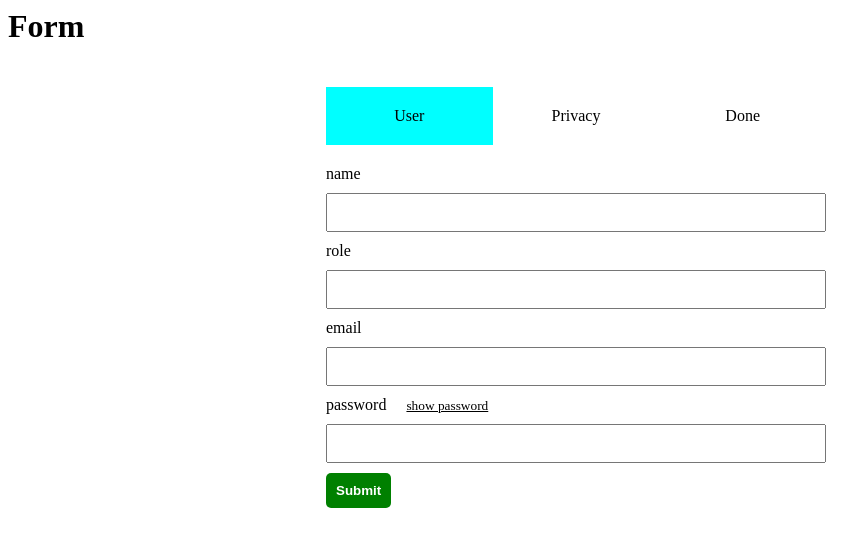
Test: TrayForm › when a user enters a invalid password › should display an error message for when it is less than 9 characters
The width and height of the screenshot is (843, 543).
In the password field labelled "password": (576, 443) 326,424 -> 826,463, type "1234"
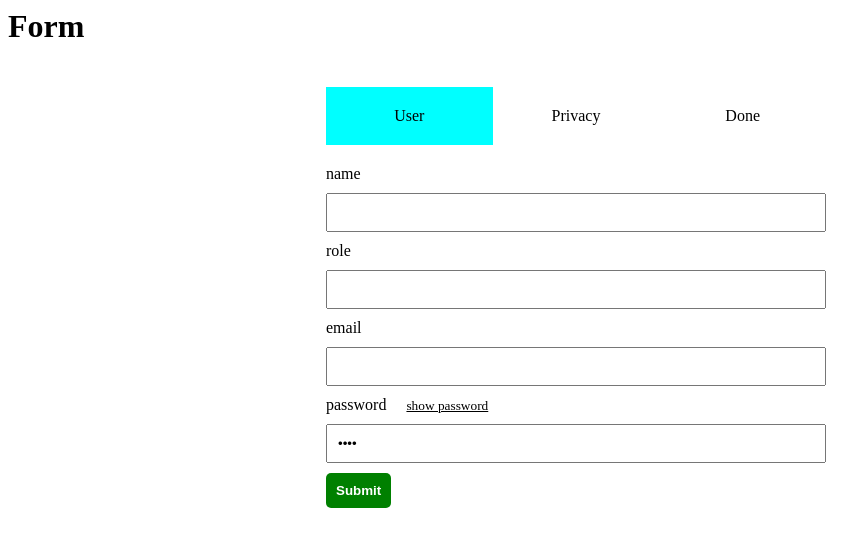
Leave the password field labelled "password", box 326,424 -> 826,463
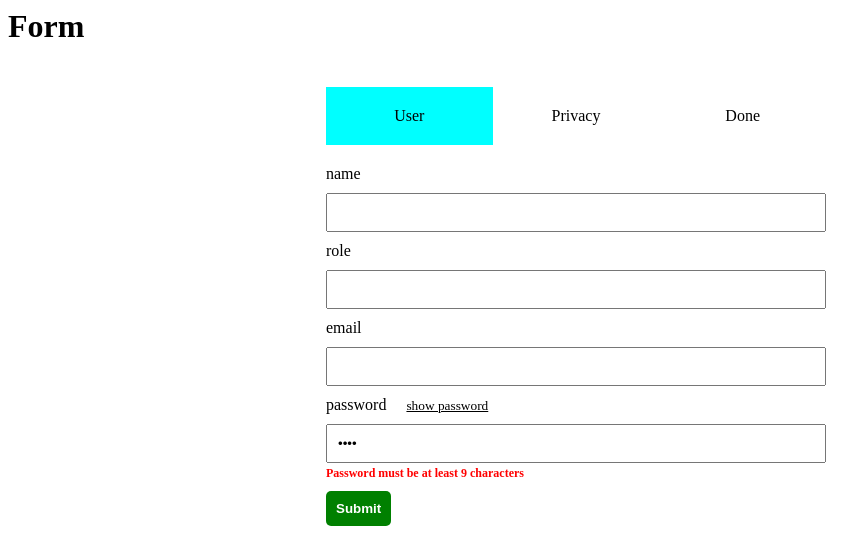
expect the text "Password must be at least 9 characters" is shown: met, box 326,466 -> 524,480
